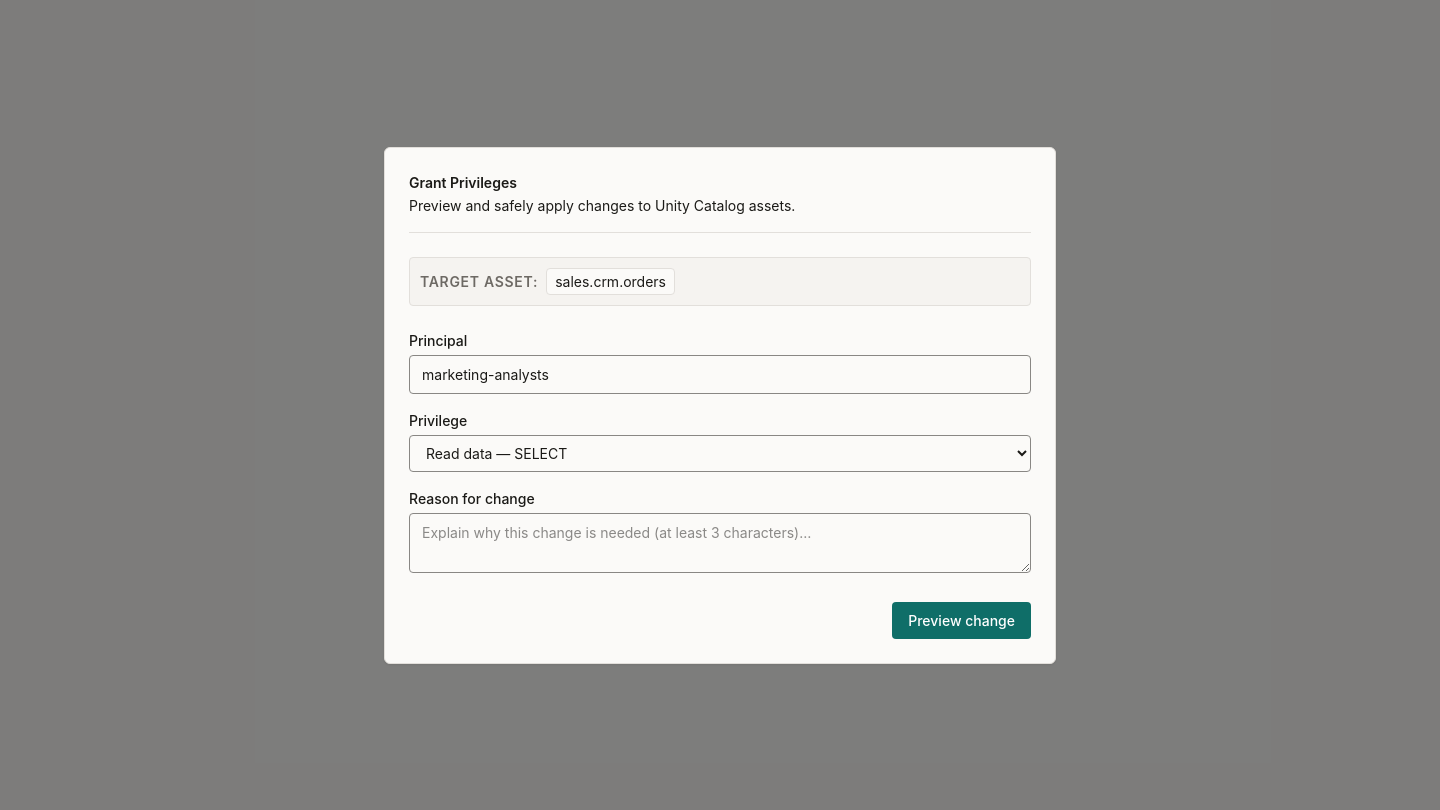
Scenario: PlanFlow (Mutation lifecycle P1-08) › preview renders description prominently and statement_preview only inside Details
# Fill in reason (at least 3 characters)
Type "Grant read access for marketing reports" into the text box with placeholder "Explain why this change is needed (at least 3 characters)…".
click(720, 542); type("Grant read access for marketing reports")  # box [409,512,1031,572]
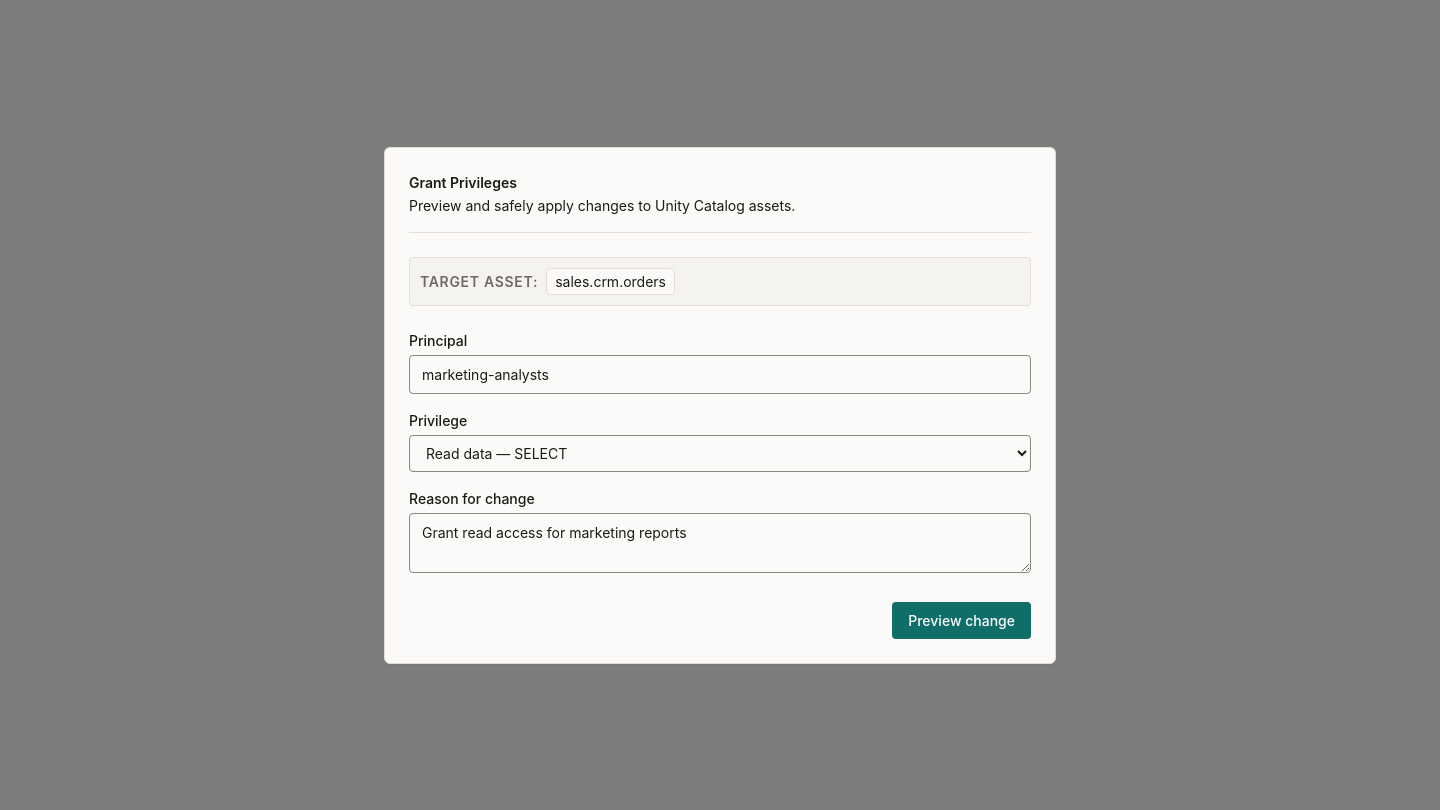
# Click Preview change
Click the button "Preview change".
click(962, 620)  # box [892,602,1031,638]
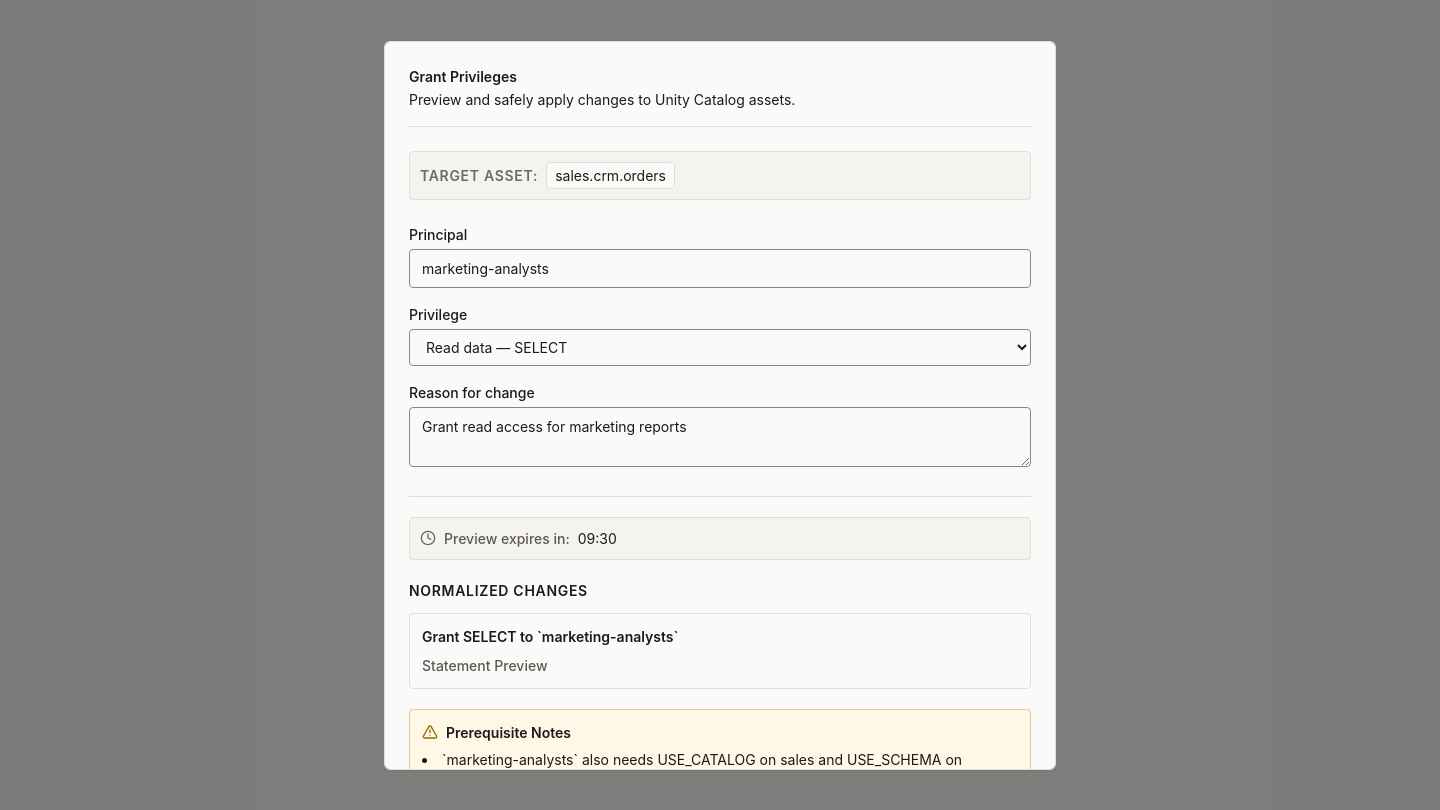
Expected: the text "Grant SELECT to `marketing-analysts`" is shown, [422,628,678,644]
Expected: the text "Statement Preview" is shown, [422,656,548,674]
